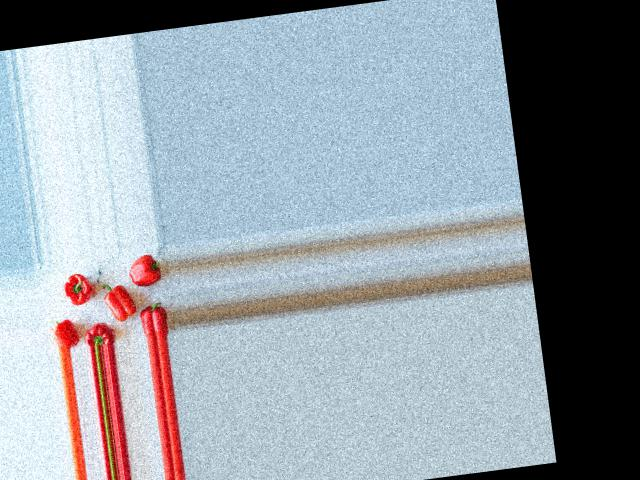bell_pepper: (83, 319, 116, 346)
